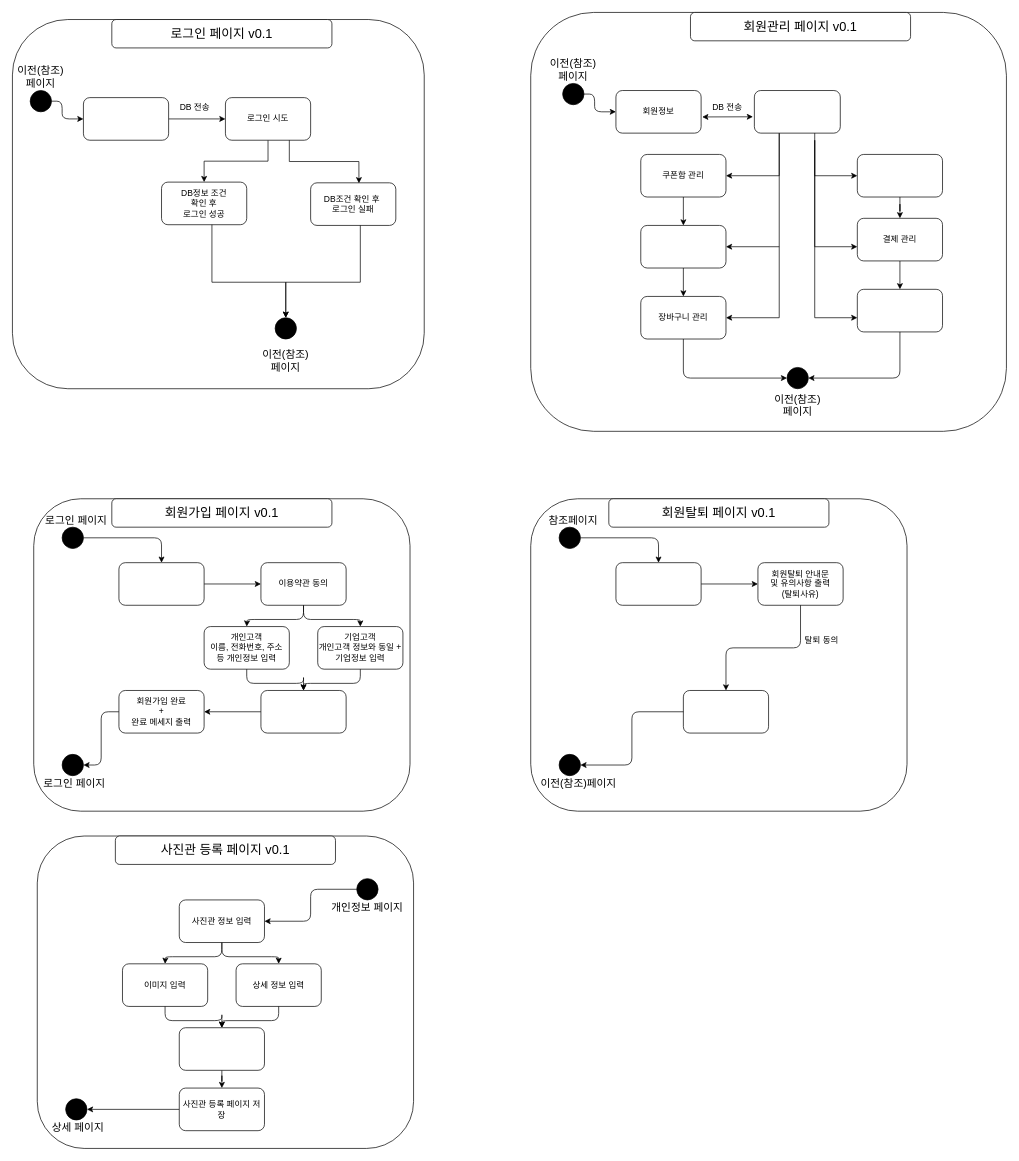
Some shapes in this 1019 by 1161 pixel diagram are drawn without their labels. The shapes that lost their labels are listed below. From the top down, each one's centre as x and y in pixels, then its label:
(126,118): 아이디/ 비빌번호 입력
(797,111): 마이페이지
(900,175): 개인 및 기업 정보관리
(683,246): 이용 내역 및 후기 작성 관리
(900,310): 예약 관리
(161,583): 회원가입 클릭
(658,583): 회원탈퇴 클릭
(303,711): 유효성 검사
(726,711): 회원탈퇴 완료 및 회원탈퇴 메세지 출력
(221,1048): 저장 확인 안내문구 출력
